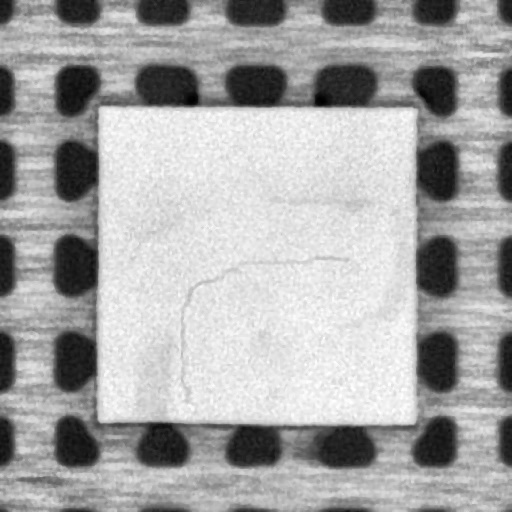DIE_CRACK: (175, 251, 352, 400)
